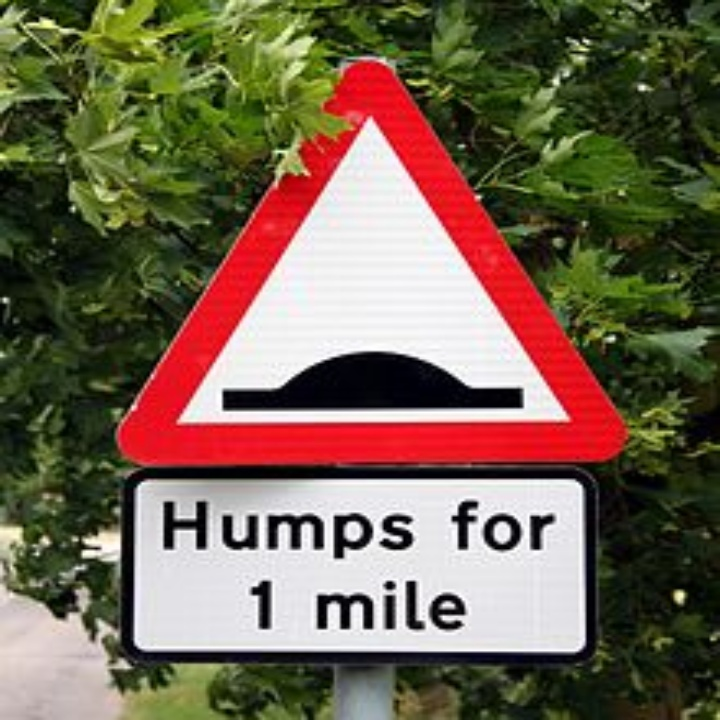bump: (201, 335, 549, 427)
